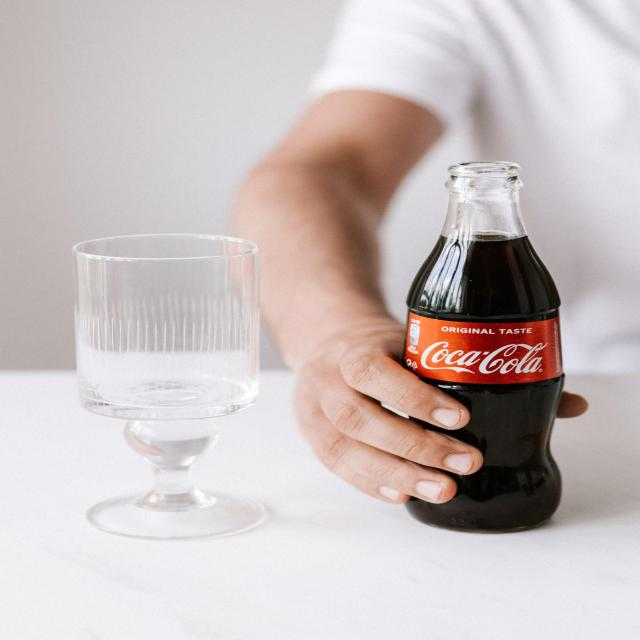coca-cola: (384, 158, 572, 540)
